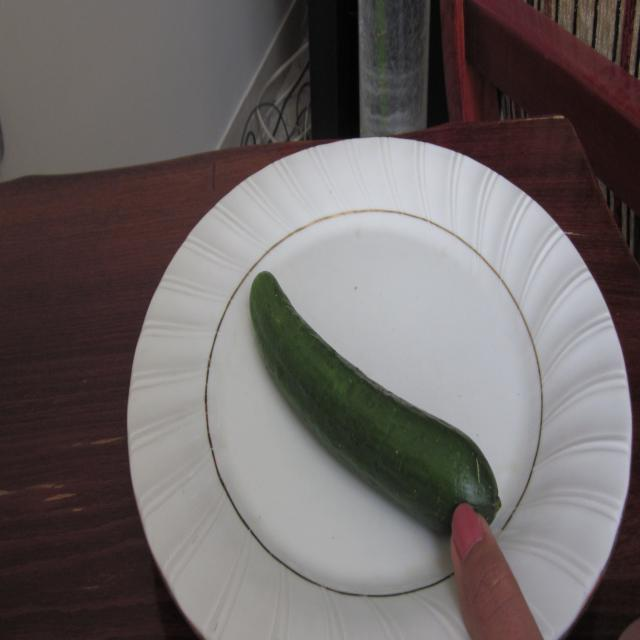cucumber: (236, 267, 497, 541)
